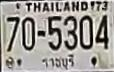0: (21, 16, 34, 50), (79, 14, 92, 48)
3: (63, 15, 77, 49)
4: (95, 14, 108, 48)
5: (47, 15, 61, 50)
7: (6, 16, 19, 51)
RBR: (41, 54, 76, 70)
